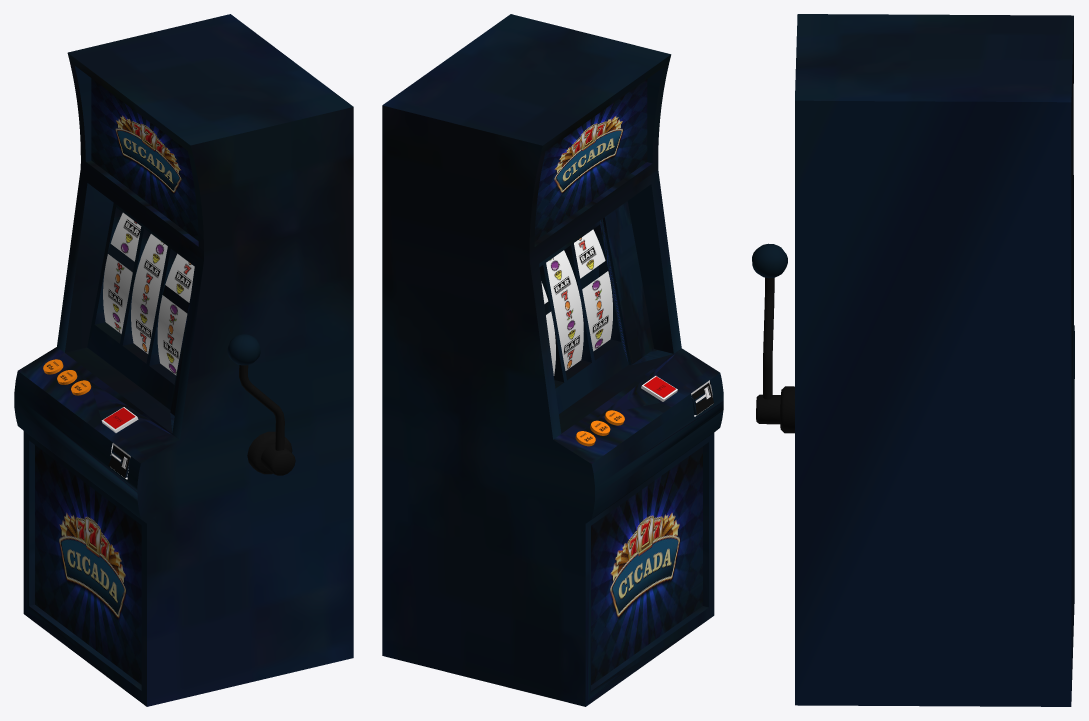
The model's file is Bet mechine 3.fbx.
3 views of the same model, side by side, from view 1: azimuth 30°, elevation 25°; view 2: azimuth 150°, elevation 25°; view 3: azimuth 270°, elevation 25° (orthographic). The views are drawn at different scales.
Parts seen in each view (by area): view 1: Mesh1_Plastic_0.001; view 2: Mesh1_Plastic_0.001; view 3: Mesh1_Plastic_0.001.
Boxes of the visible parts, x1,y1,x2,y2 form: Mesh1_Plastic_0.001: (14, 14, 353, 706); Mesh1_Plastic_0.001: (382, 14, 723, 706); Mesh1_Plastic_0.001: (752, 14, 1074, 706).
Size of the model in its own units: 65.62 by 158 by 76.32.
Materials: 1 (1 with a texture image).
